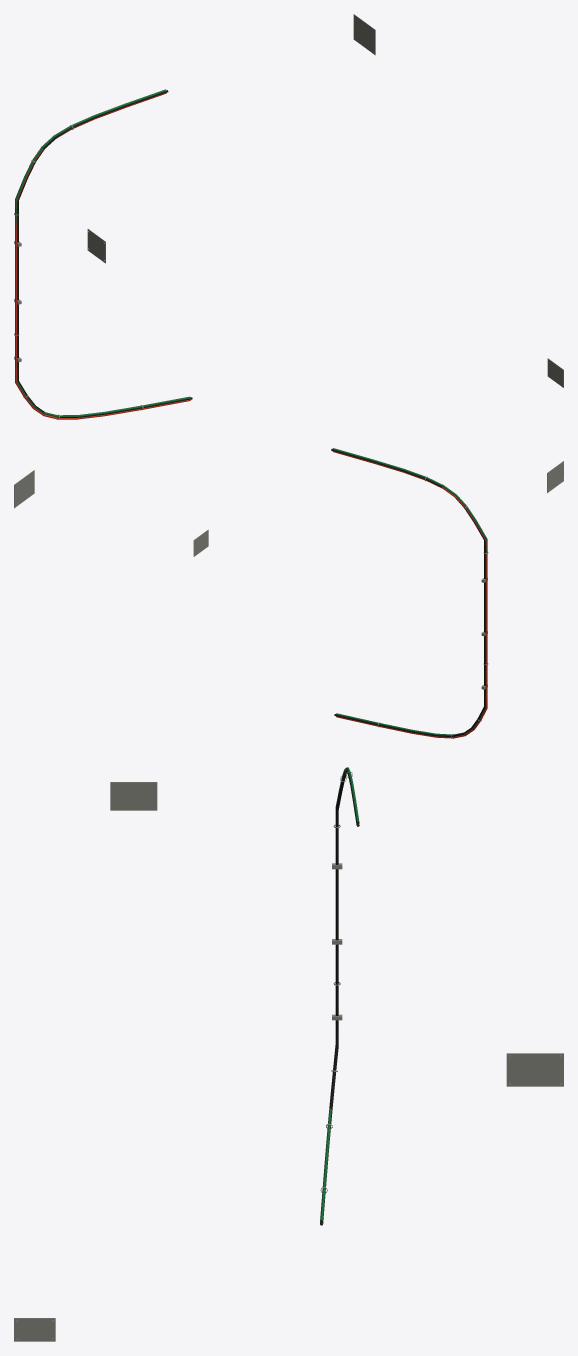
The model's file is bunk500_harness.obj.
3 views of the same model, one above another, from view 1: azimuth 30°, elevation 25°; view 2: azimuth 150°, elevation 25°; view 3: azimuth 270°, elevation 25° (orthographic). The views are drawn at different scales.
Visible parts, largest first — view 1: bunk500_harness; view 2: bunk500_harness; view 3: bunk500_harness.
Part boxes in pixels (left/top/right/bottom): bunk500_harness: left=14, top=14, right=563, bottom=419; bunk500_harness: left=14, top=448, right=563, bottom=738; bunk500_harness: left=14, top=767, right=563, bottom=1341.
Bounding box in the file's own units: 12.38 × 8.41 × 10.55.
